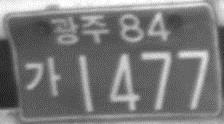1: (76, 53, 96, 114)
4: (108, 52, 140, 111), (147, 11, 172, 41)
7: (174, 49, 211, 110), (139, 49, 171, 112)
8: (118, 12, 144, 42)
가: (24, 56, 62, 97)
광주_O: (50, 14, 109, 47)
